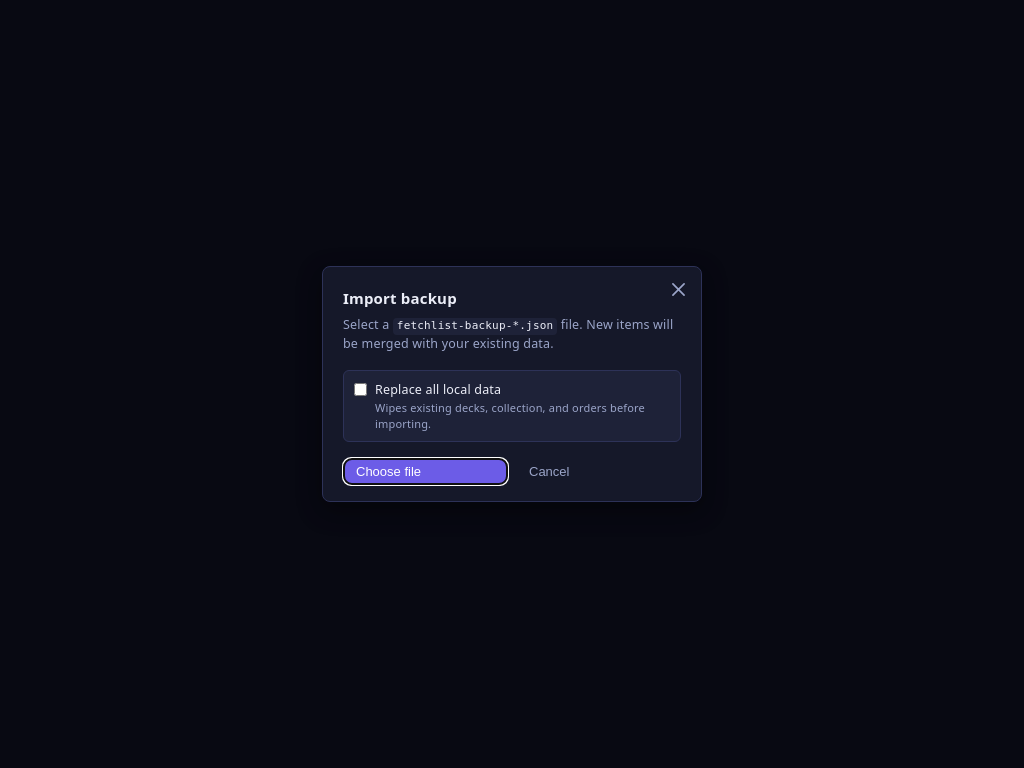
ImportBackupModal › switches to destructive styling and label when 'Replace all local data' is checked
Click the checkbox labelled "Replace all local data" at (360, 389), box [354,383,367,396]
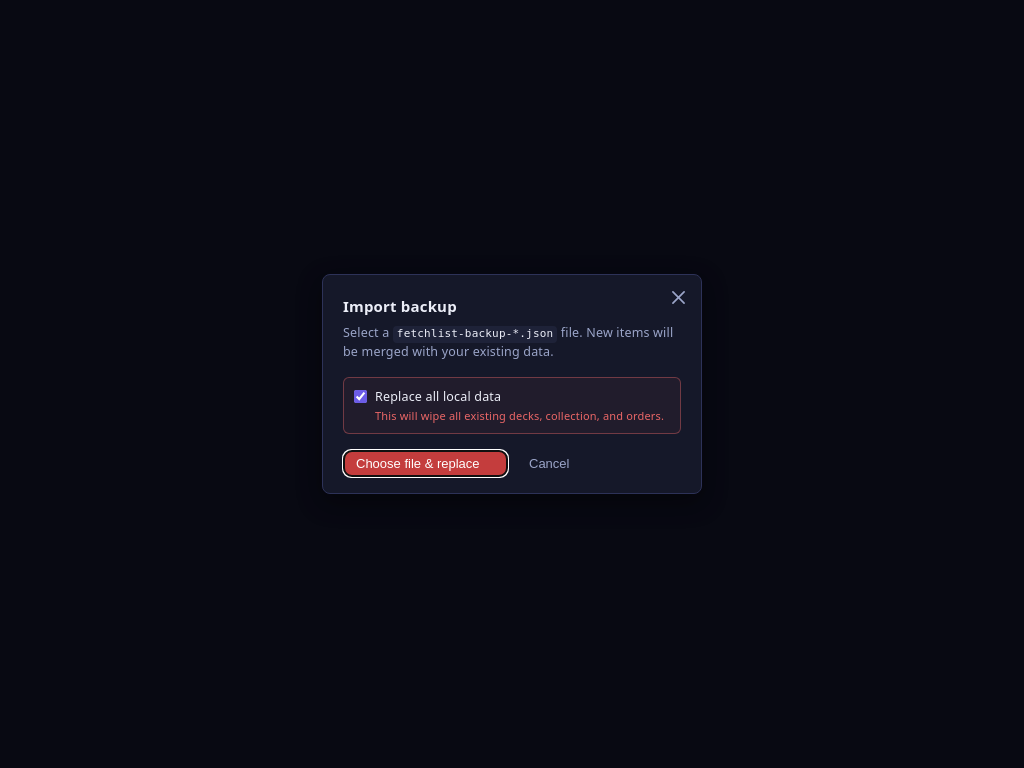
Expected: the button "Choose file & replace" is shown, [343,450,508,477]
